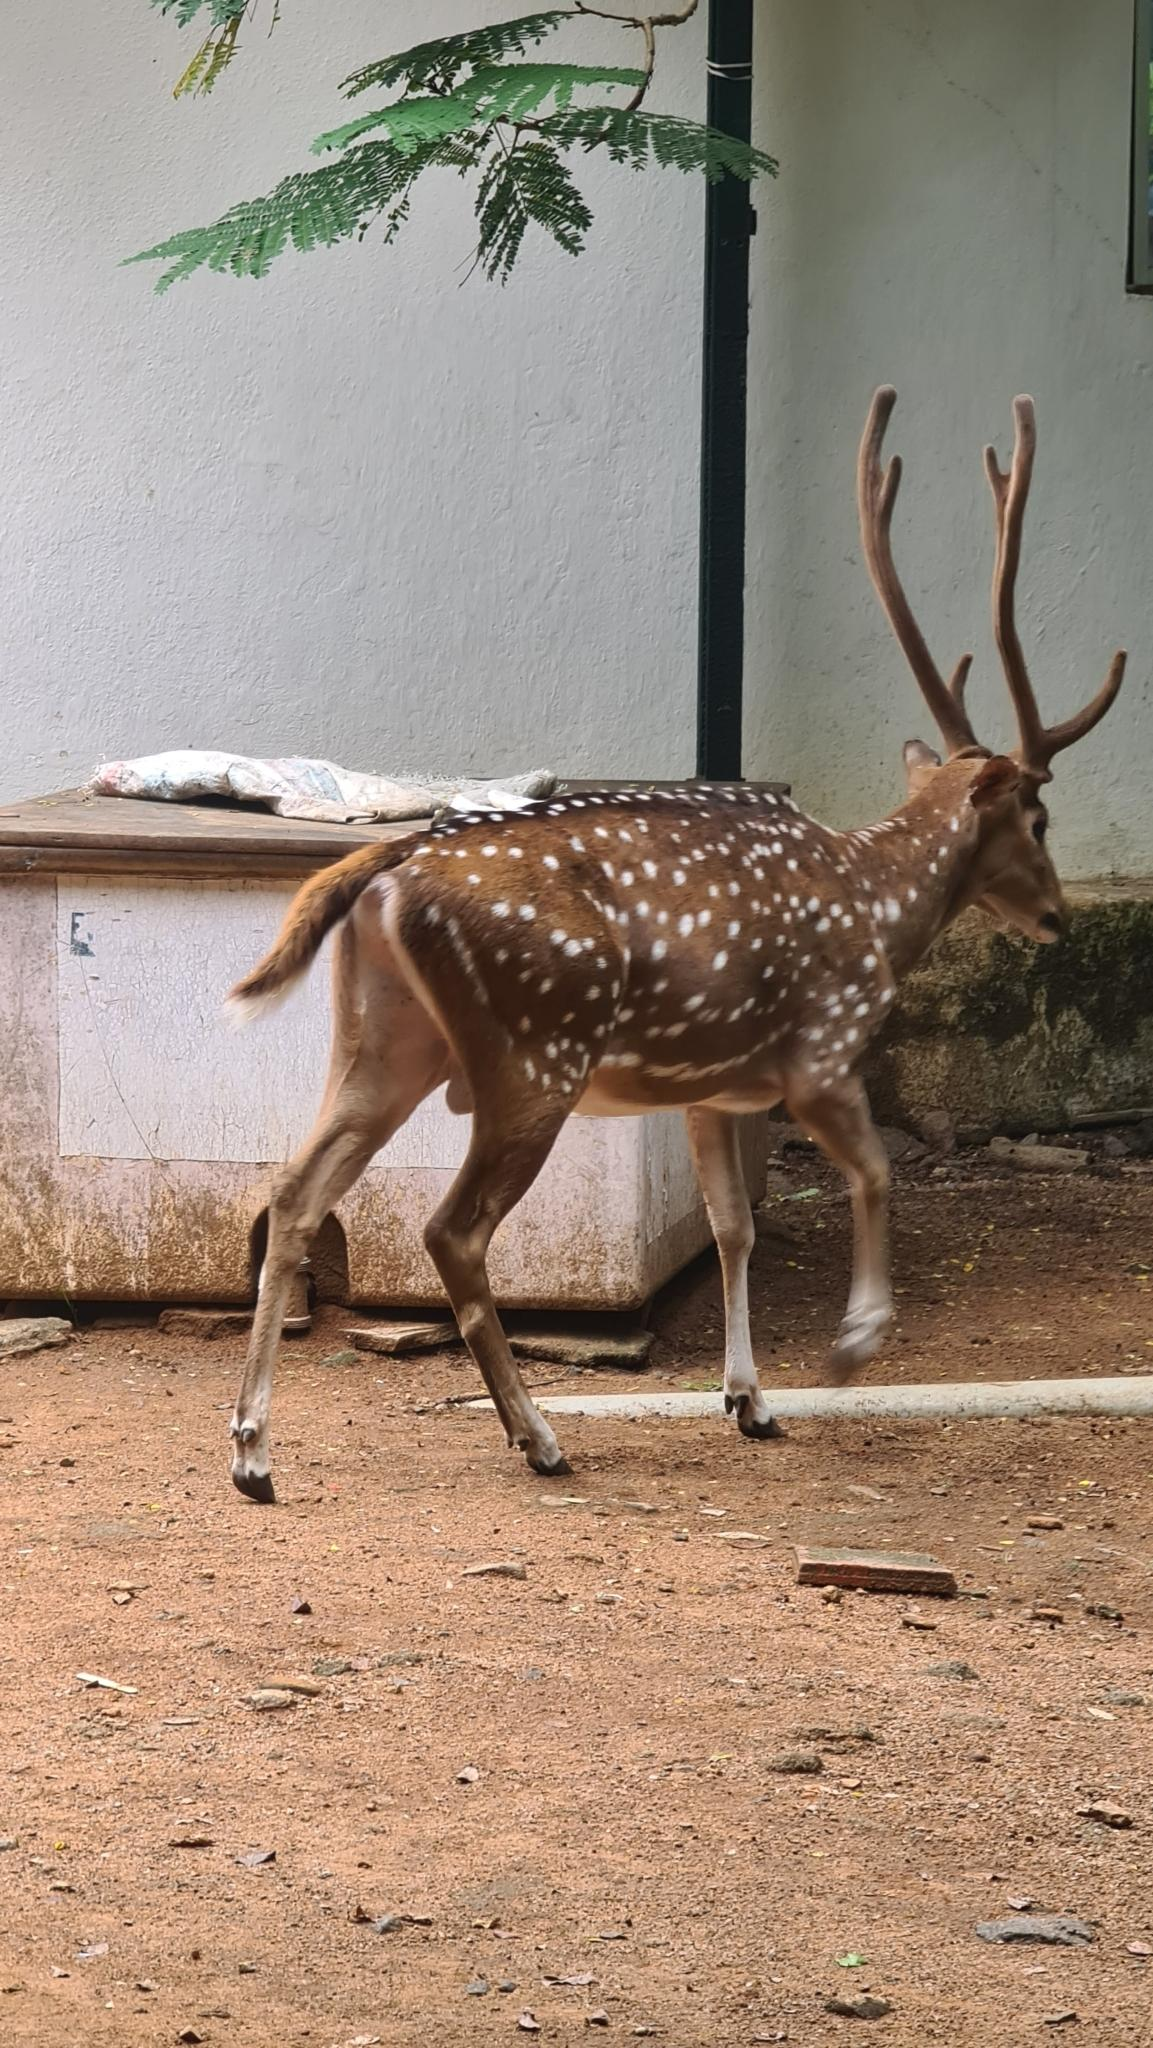Deer: (226, 388, 1125, 1502)
